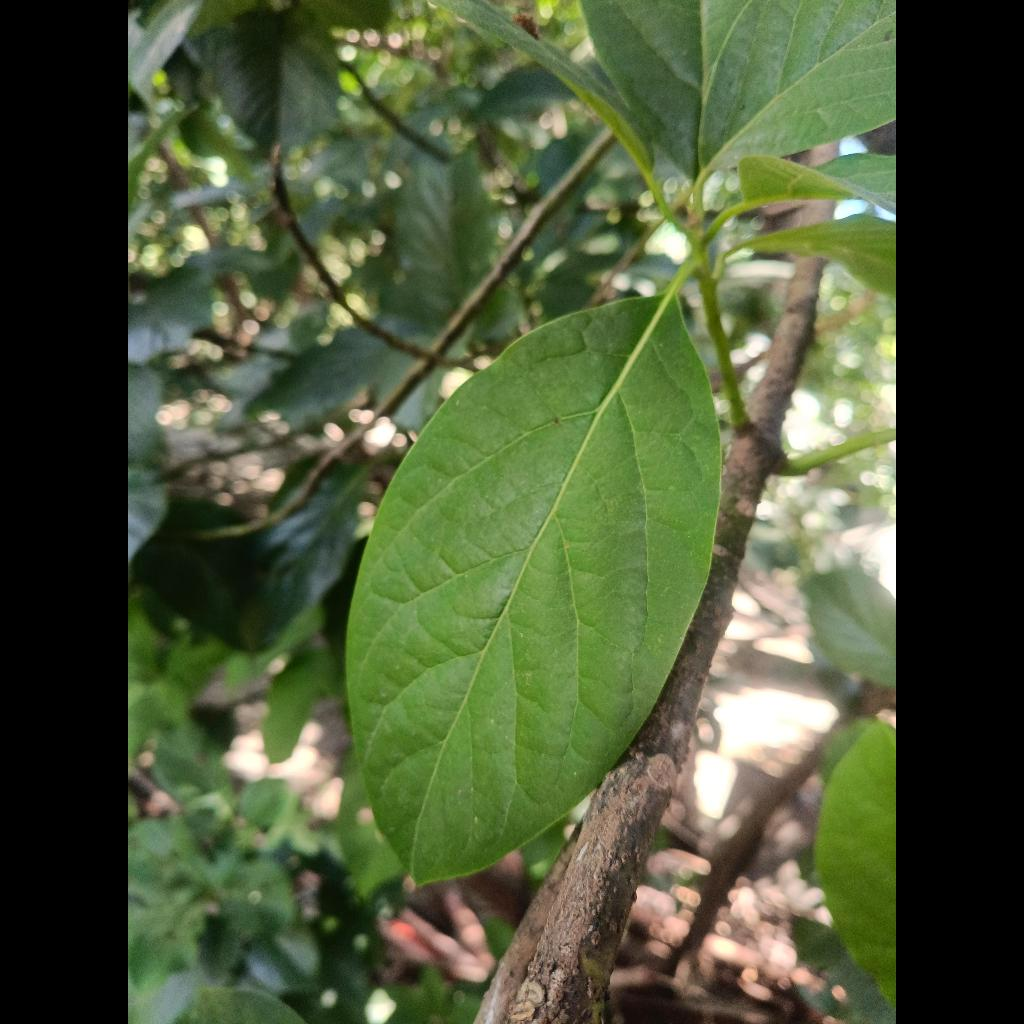Healthy: (347, 294, 720, 883)
